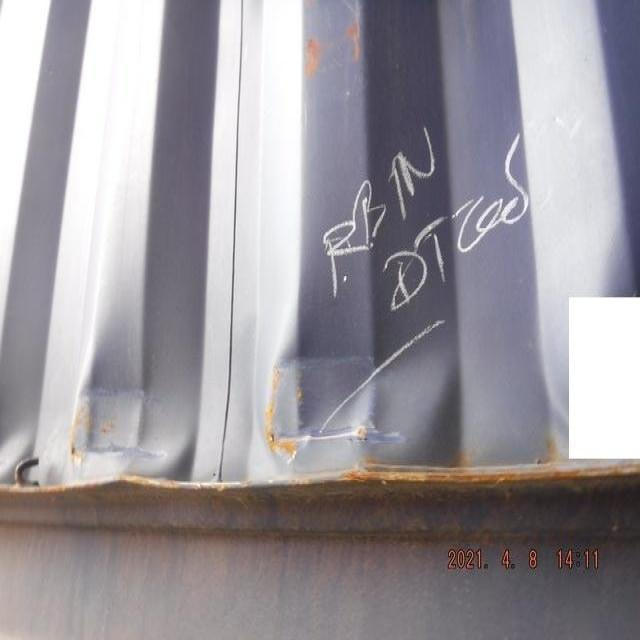dent: (26, 314, 473, 461)
